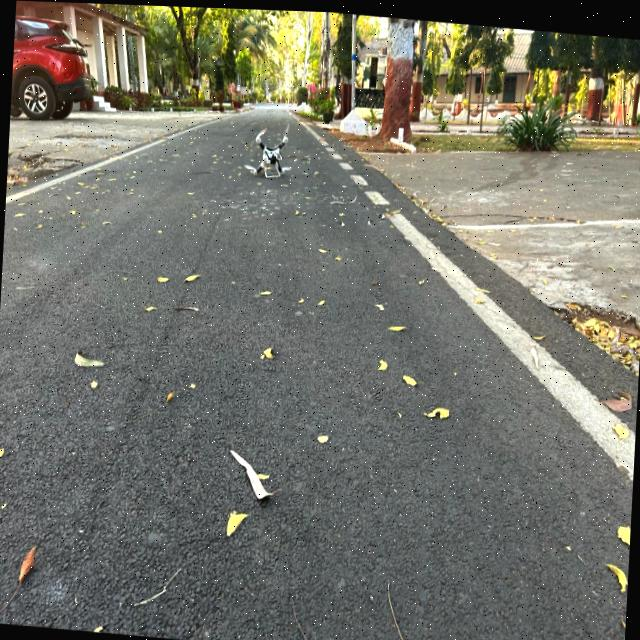drone: (226, 107, 319, 194)
